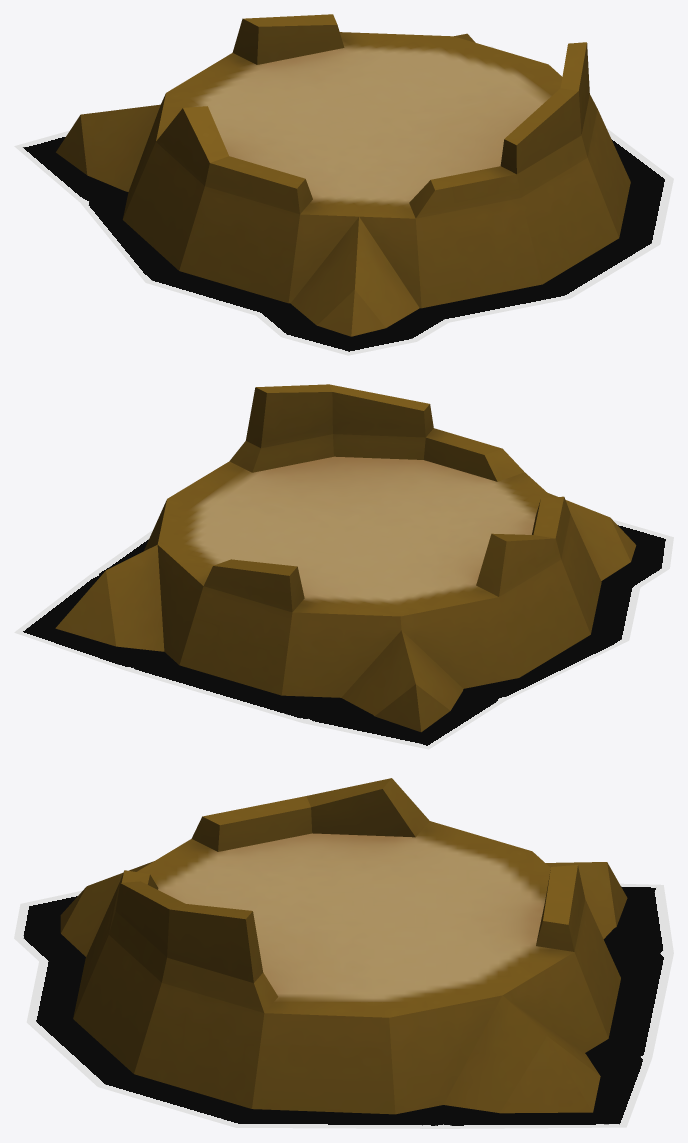
Rendered from 2x2_stump.FBX.
3 renders of one model, top to bottom at view 1: azimuth 30°, elevation 25°; view 2: azimuth 150°, elevation 25°; view 3: azimuth 270°, elevation 25°, orthographic. The views are drawn at different scales.
Visible parts, largest first — view 1: 2x2_stump, 2x2_stump_soft_shadow; view 2: 2x2_stump, 2x2_stump_soft_shadow; view 3: 2x2_stump, 2x2_stump_soft_shadow.
Part boxes in pixels (x1,y1,x2,y2): 2x2_stump: [56, 14, 630, 336]; 2x2_stump_soft_shadow: [14, 46, 673, 355]; 2x2_stump: [55, 384, 636, 732]; 2x2_stump_soft_shadow: [14, 520, 673, 749]; 2x2_stump: [60, 778, 627, 1114]; 2x2_stump_soft_shadow: [14, 883, 673, 1128].
Bounding box in the file's own units: 2129 × 628 × 2234.
